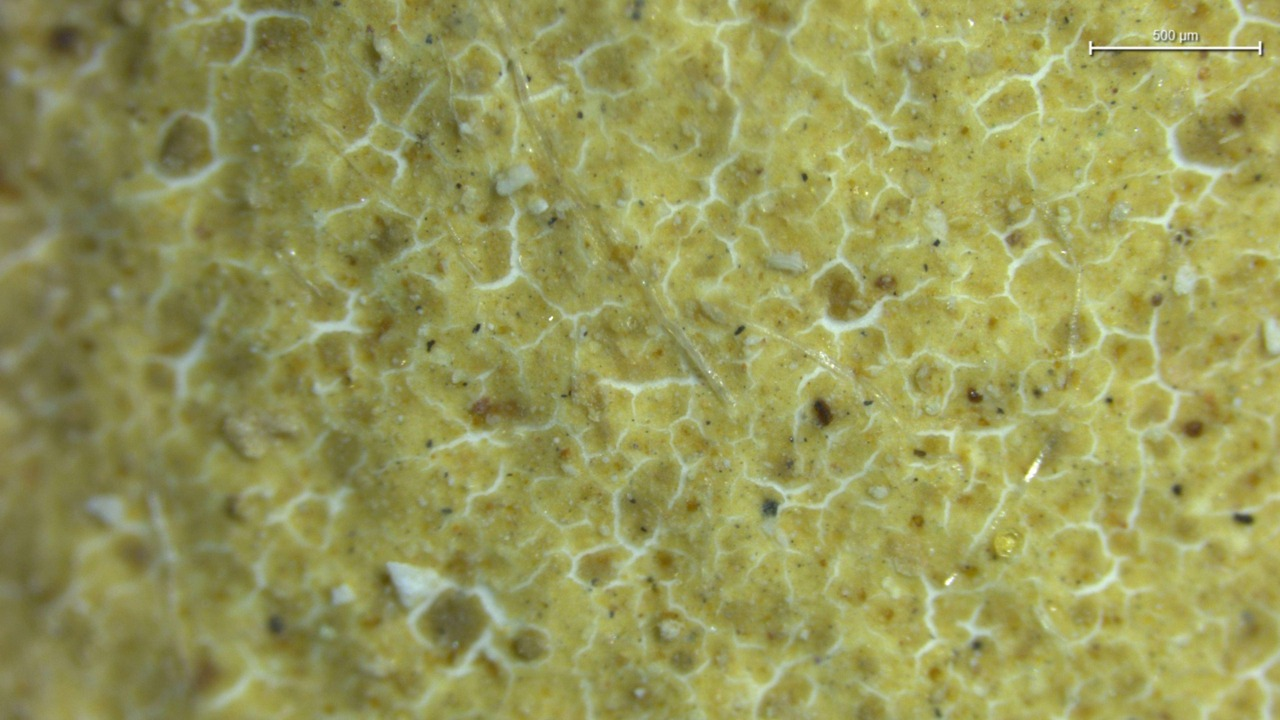microplastic_fragment: (386, 562, 438, 608), (495, 164, 535, 196)
